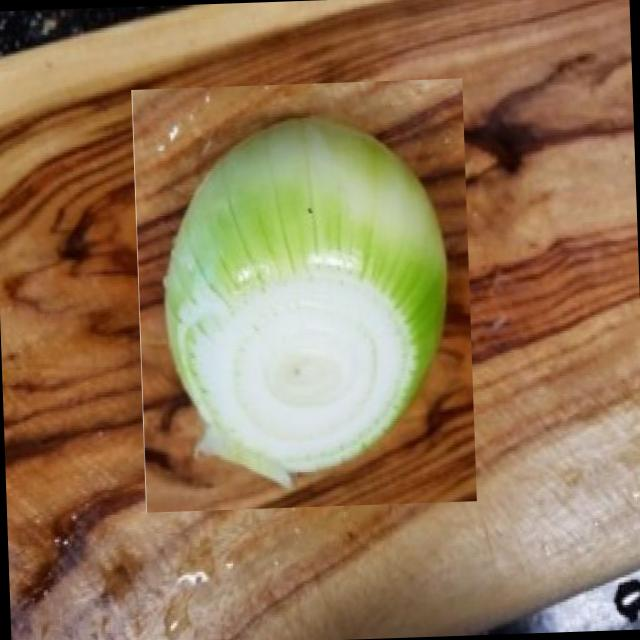Onion: (130, 76, 477, 512)
